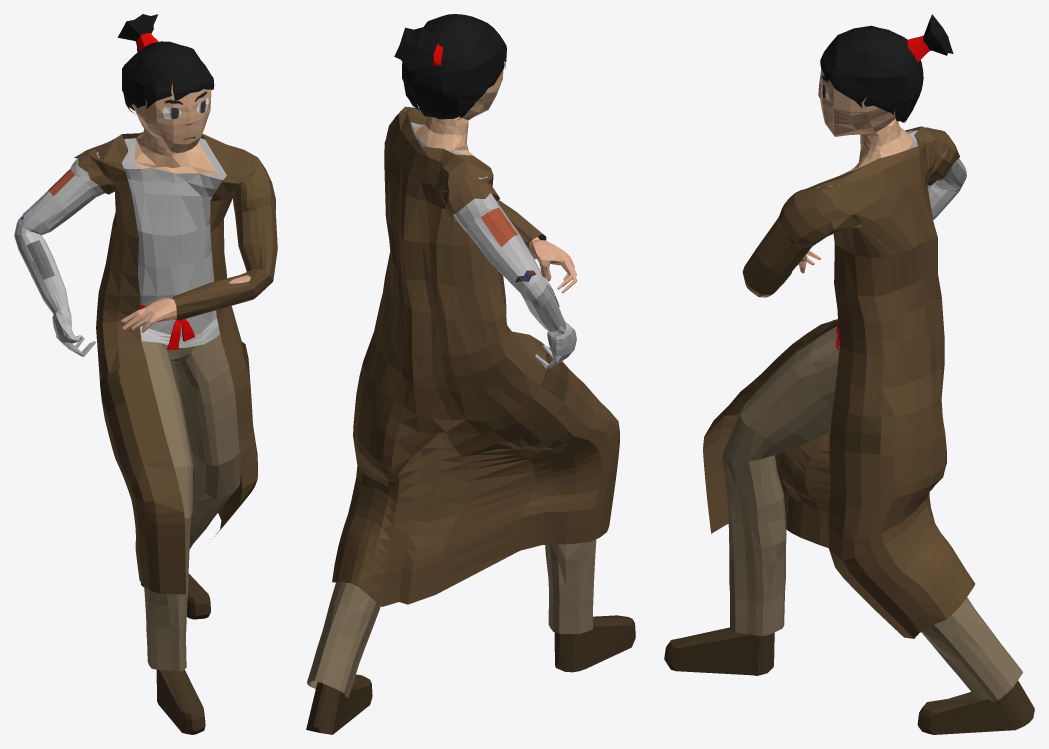
Rendered from One_Bash_000004.obj.
3 renders of one model, left to right at view 1: azimuth 30°, elevation 25°; view 2: azimuth 150°, elevation 25°; view 3: azimuth 270°, elevation 25°, orthographic. The views are drawn at different scales.
Visible parts, largest first — view 1: Hair_Cube.004; view 2: Hair_Cube.004; view 3: Hair_Cube.004.
Part boxes in pixels (<box>): Hair_Cube.004: <box>14,14,277,734</box>; Hair_Cube.004: <box>306,14,635,734</box>; Hair_Cube.004: <box>664,14,1034,734</box>.
Size of the model in its own units: 1.26 by 3.72 by 1.83.
